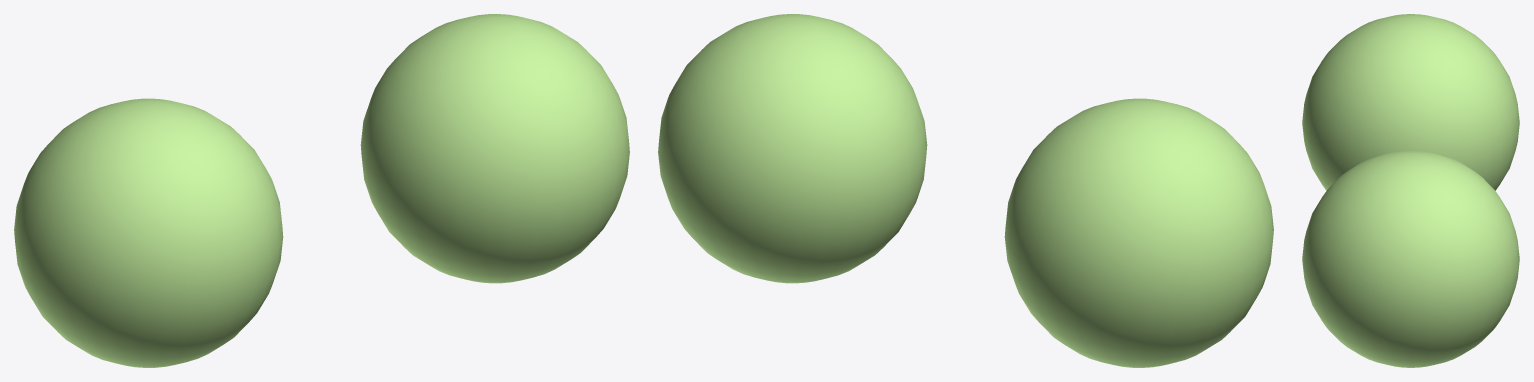
File: spheres.glb
The picture shows the model from 3 angles, left to right: view 1: azimuth 30°, elevation 25°; view 2: azimuth 150°, elevation 25°; view 3: azimuth 270°, elevation 25°; orthographic projection. The views are drawn at different scales.
Visible parts, largest first — view 1: Sphere003, Sphere004; view 2: Sphere003, Sphere004; view 3: Sphere004, Sphere003.
Part boxes in pixels (x1,y1,x2,y2): Sphere003: [14, 98, 283, 367]; Sphere004: [360, 14, 629, 283]; Sphere003: [1004, 98, 1273, 367]; Sphere004: [658, 14, 927, 283]; Sphere004: [1302, 150, 1519, 367]; Sphere003: [1302, 14, 1519, 190].
Bounding box in the file's own units: 1.27 × 0.5111 × 0.5111.
